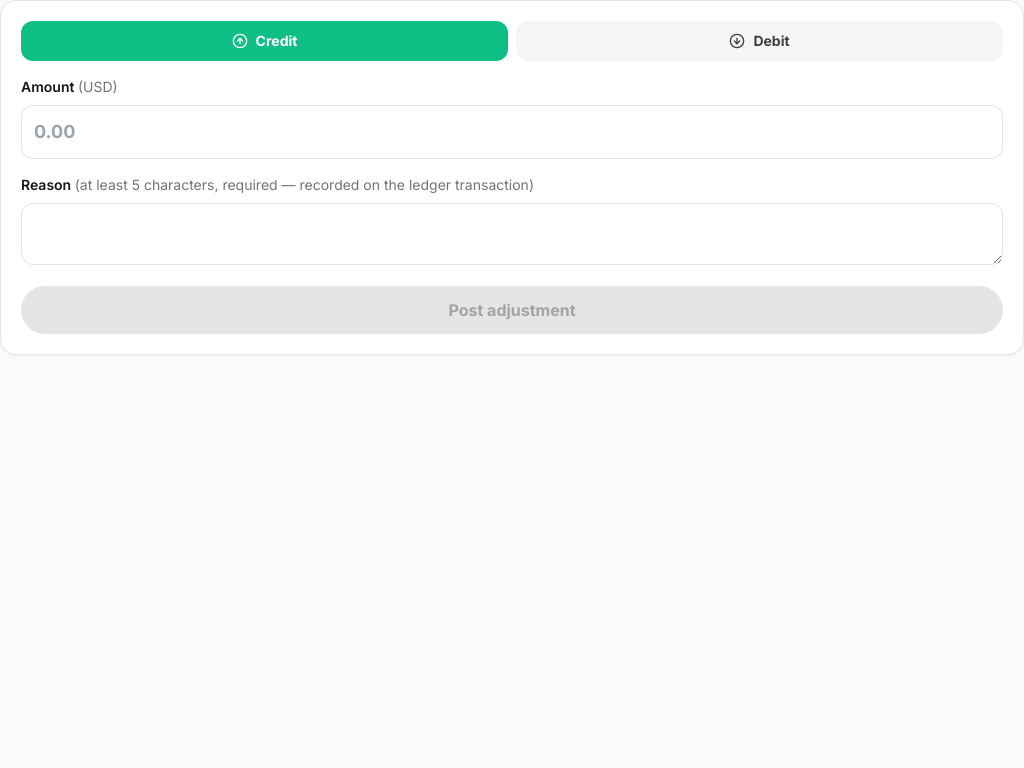
Test: AdjustBalanceForm — manual balance adjustment › captures before/after balance and posts a credit adjustment with the reason, currency, and amount, only after the confirm dialog is accepted
Step 1. Type "25" into the field with placeholder "0.00" → (512, 132), box [21,105,1003,159]
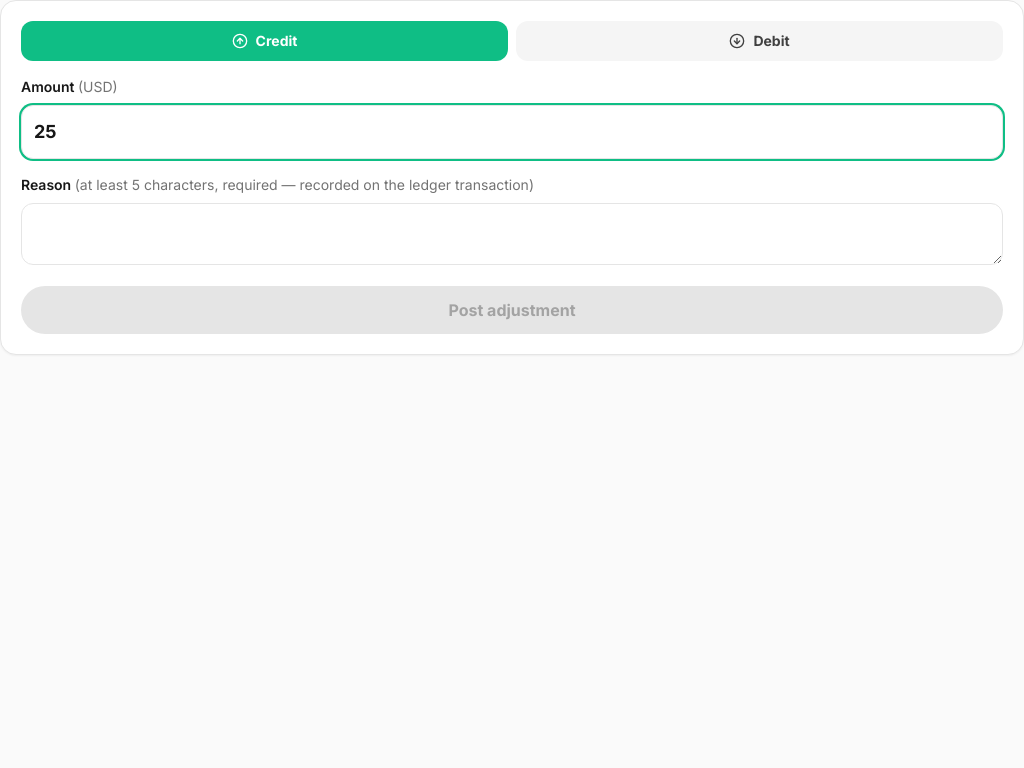
Step 2. Type "goodwill credit" into the text box labelled "Reason" → (512, 234), box [21,203,1003,265]
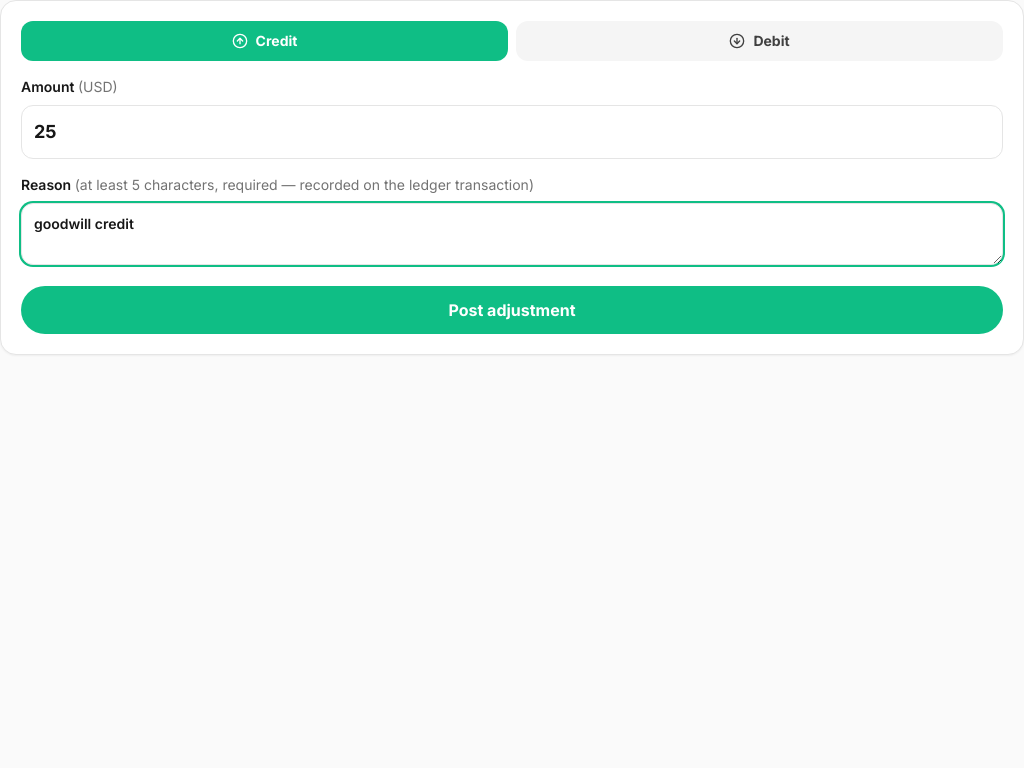
Step 3. Click the button "Post adjustment" → click(512, 310), box [21,286,1003,334]
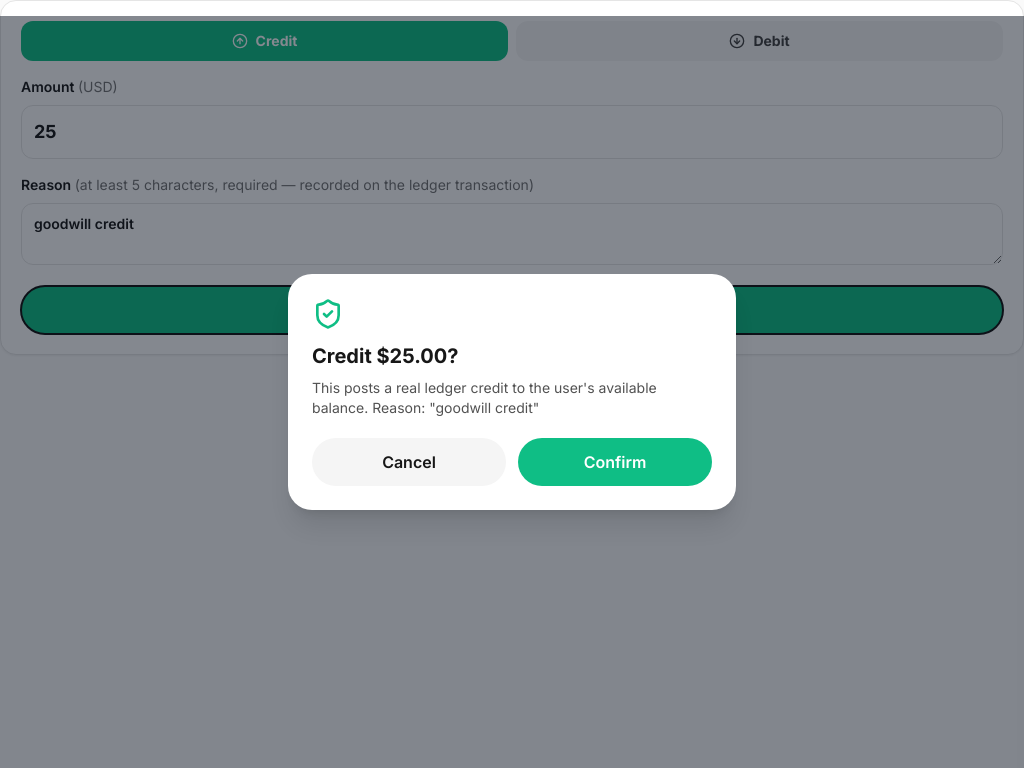
Step 4. Click the button "Confirm" → click(615, 462), box [518,438,712,486]
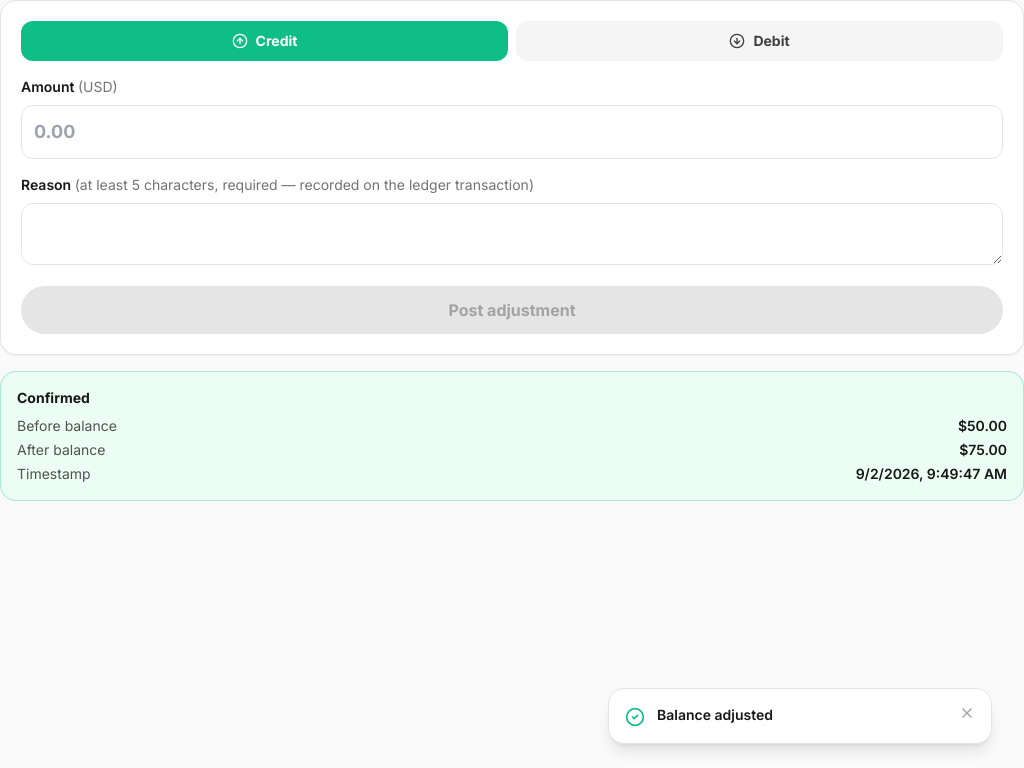
expect the text "$50.00" is shown: met, box [958,416,1007,436]
expect the text "$75.00" is shown: met, box [959,440,1007,460]
